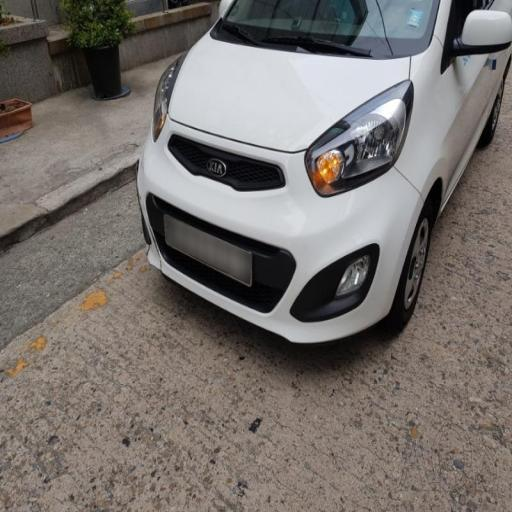normal: (116, 6, 503, 344)
